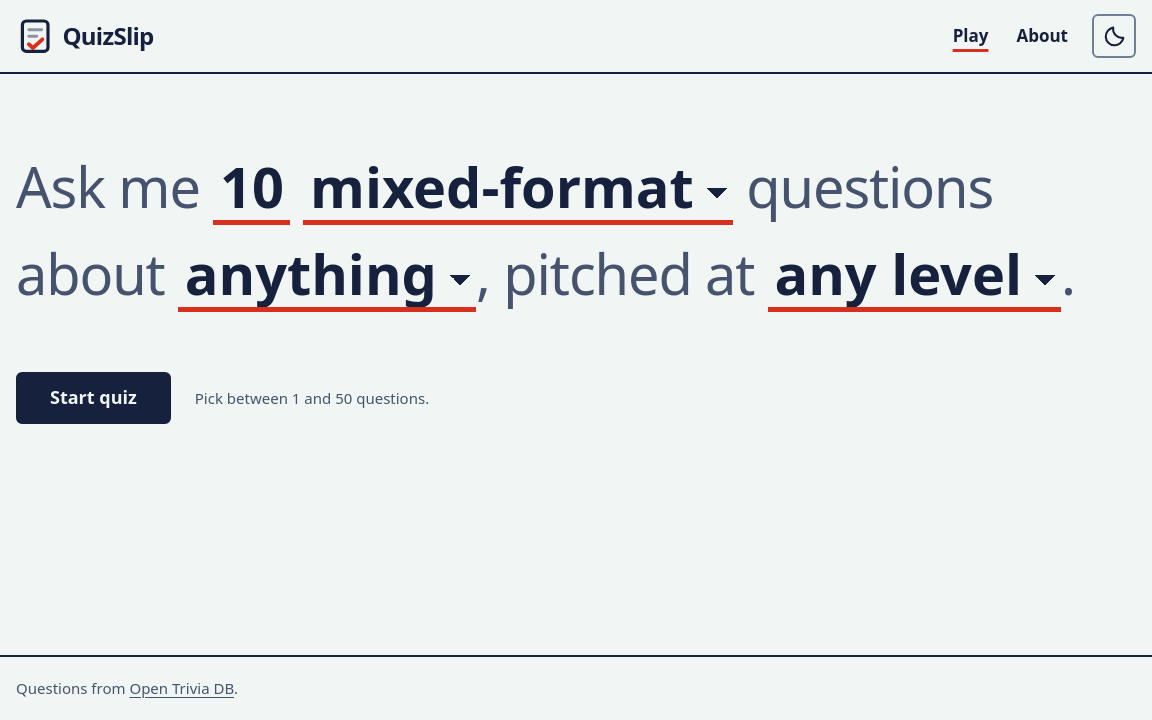
quiz flow › shows a plain message and a retry when loading fails
Click the button "Start quiz" at (93, 398), box [16,372,171,424]
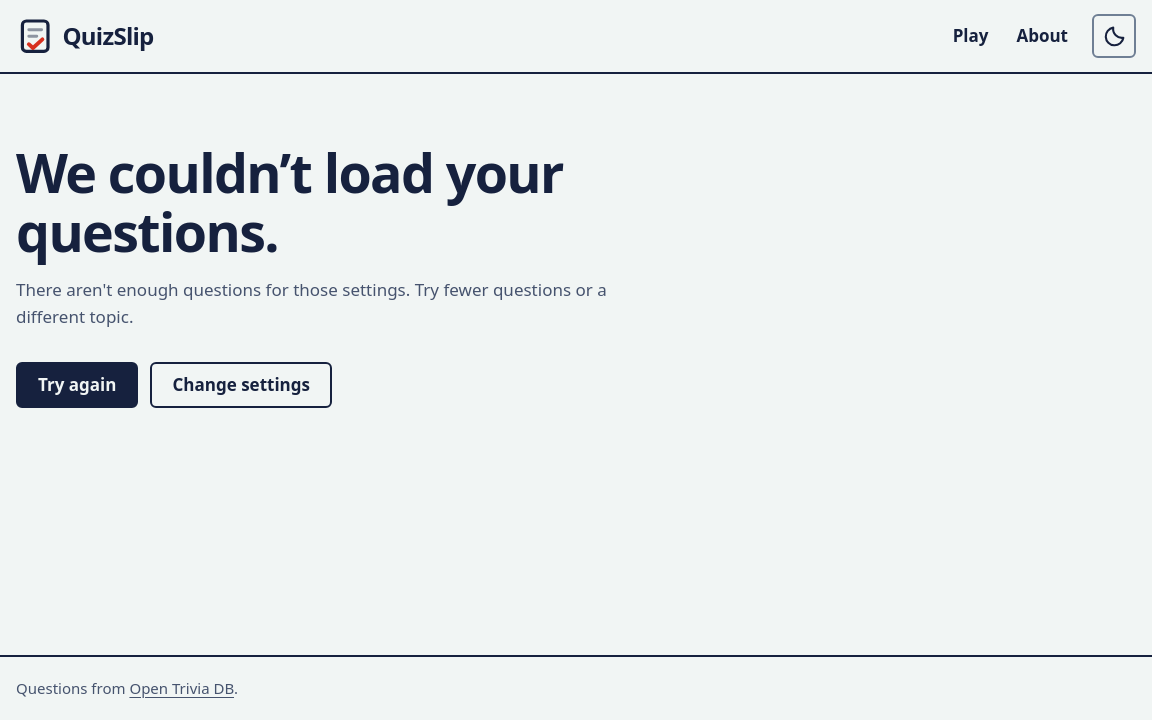
Check: the heading "We couldn’t load your questions." is shown, box [16,143,569,261]
Check: the text "aren.t enough questions" is shown, box [16,278,607,328]
Check: the button "Try again" is shown, box [16,362,138,408]
